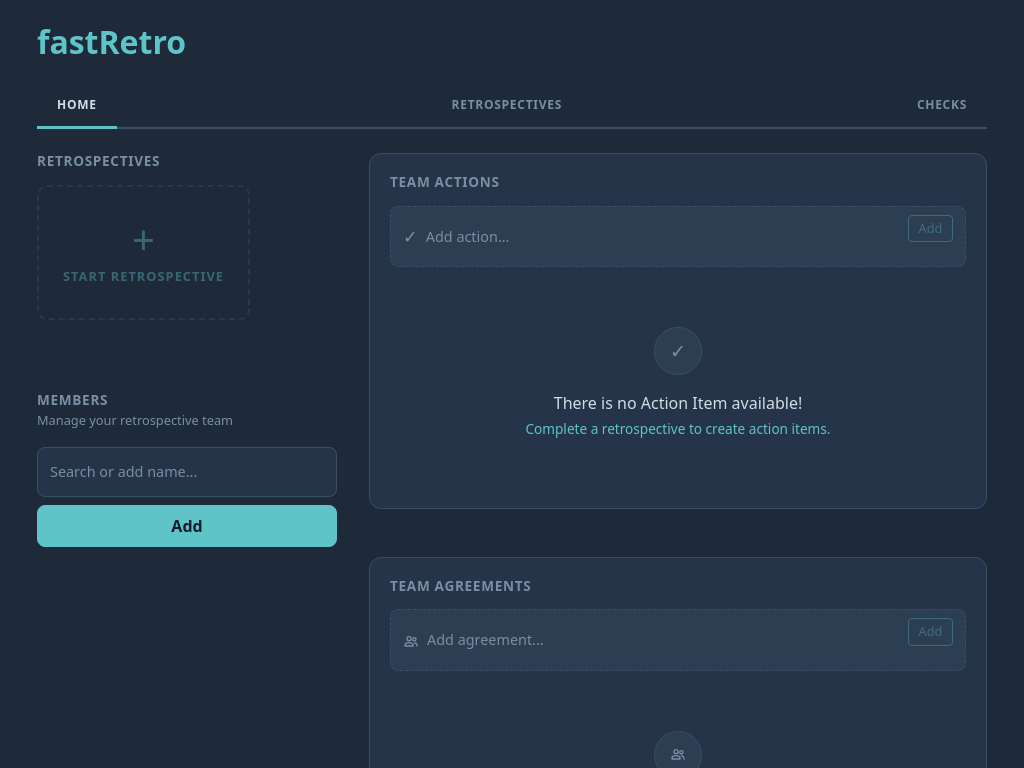
Test: Team members (via Dashboard) › shows an error on duplicate names
Step 1. Type "Alice" into the field labelled "Search or add name..." → (187, 472), box [37,447,337,497]
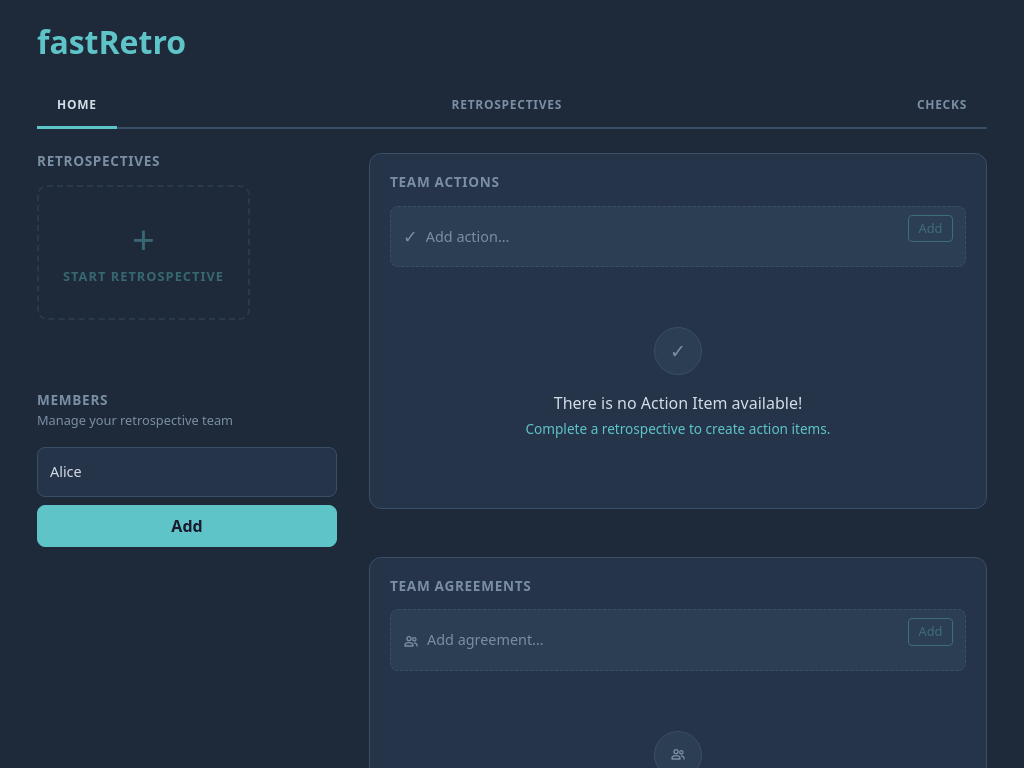
Step 2. Click the button "Add" below "Manage your retrospective team" → (187, 526), box [37,505,337,547]
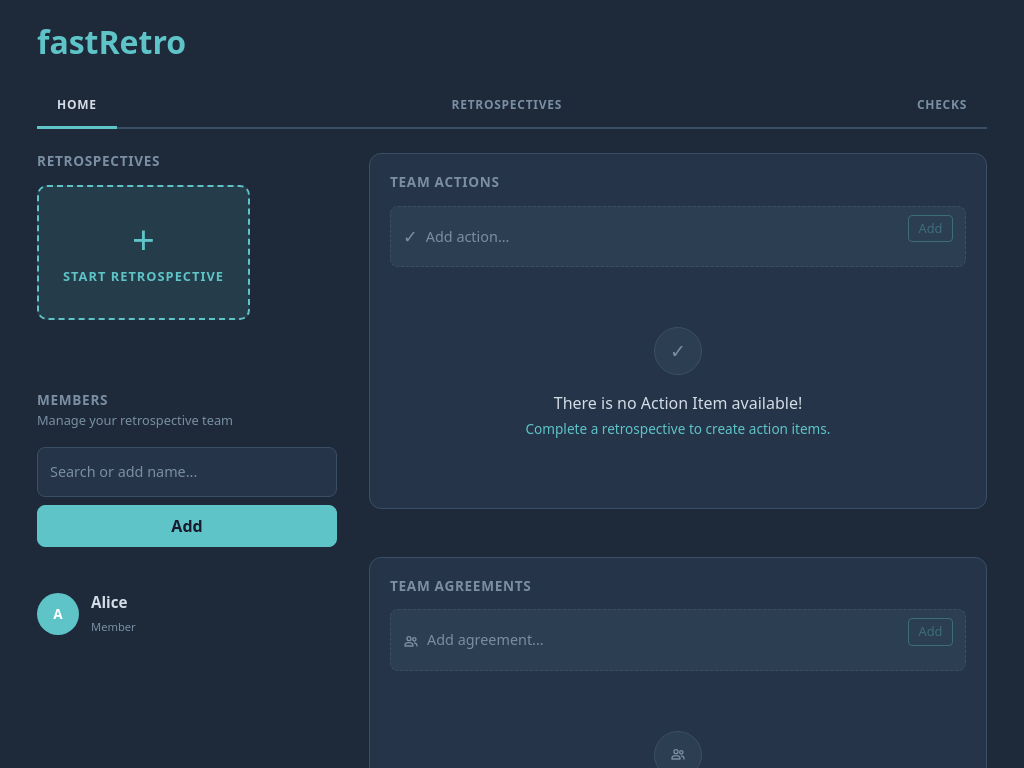
Step 3. Type "Alice" into the field labelled "Search or add name..." → (187, 472), box [37,447,337,497]
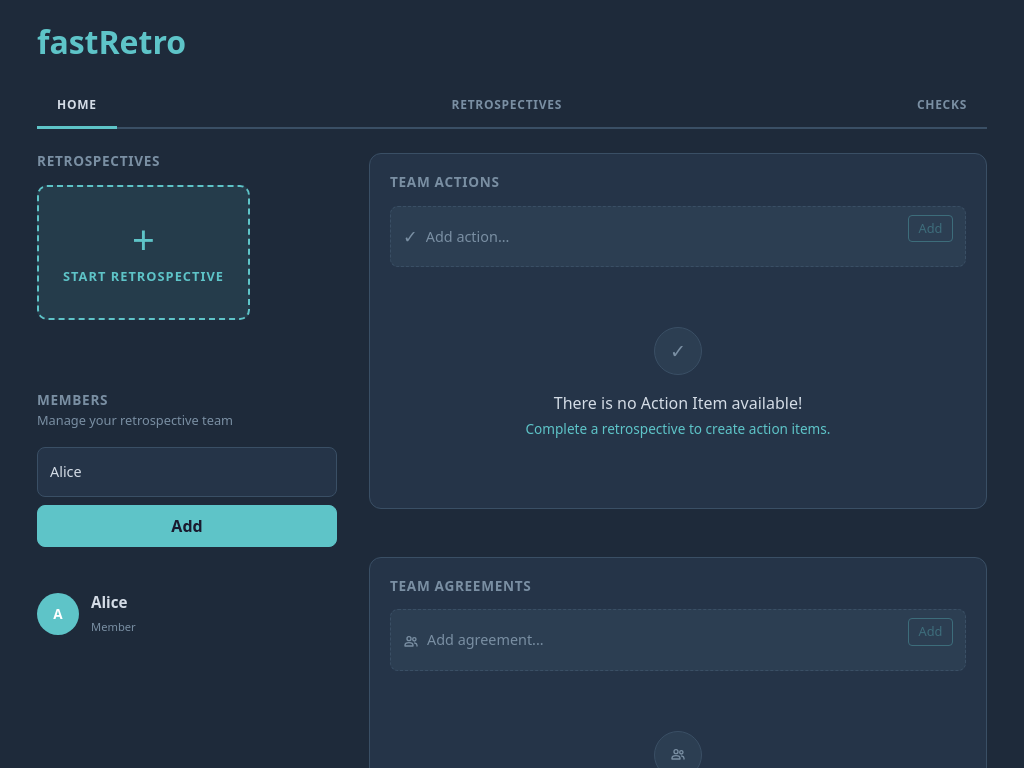
Step 4. Click the button "Add" below "Manage your retrospective team" → (187, 526), box [37,505,337,547]
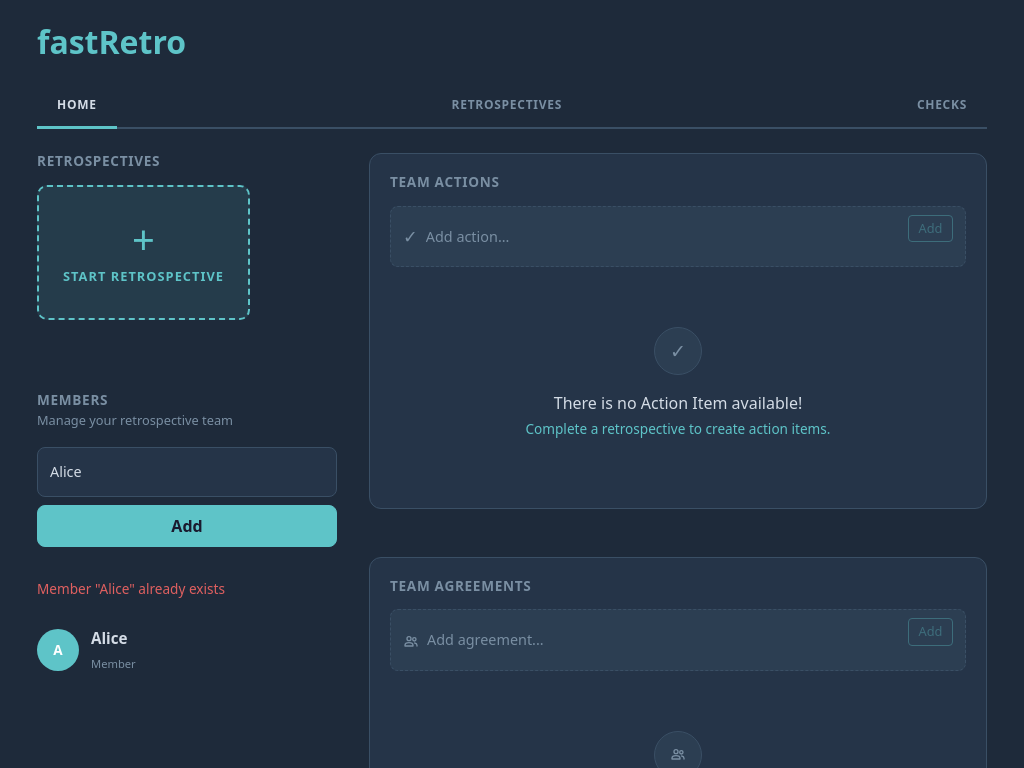
Expected: the text "Alice" is shown once, [91,628,128,648]
Expected: the message shows "already", [37,579,225,598]
